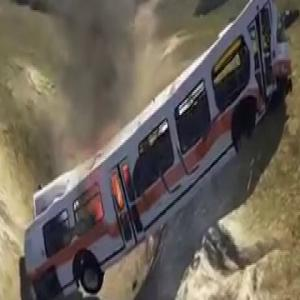severe: (18, 0, 300, 300)
